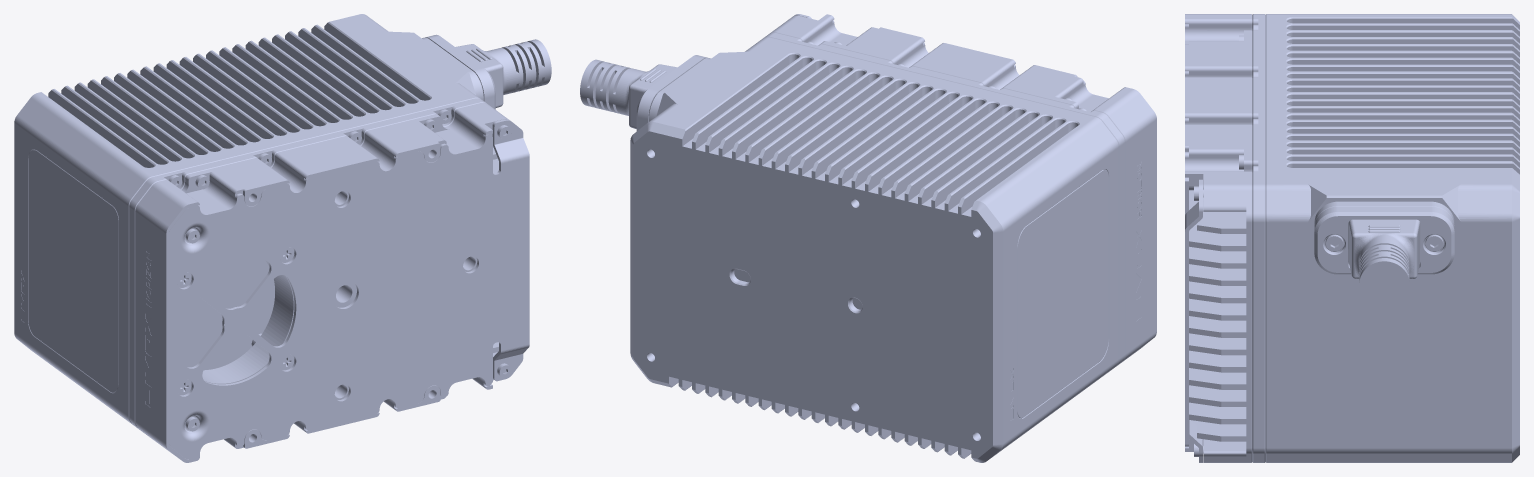
Rendered from horizon.dae.
3 renders of one model, left to right at view 1: azimuth 30°, elevation 25°; view 2: azimuth 150°, elevation 25°; view 3: azimuth 270°, elevation 25°, orthographic. The views are drawn at different scales.
Visible parts, largest first — view 1: node_f17b4b2d_35dd_4e9b_93a7_5030c35a9ab1_mesh0, node_f17b4b2d_35dd_4e9b_93a7_5030c35a9ab1_mesh3, node_f17b4b2d_35dd_4e9b_93a7_5030c35a9ab1_mesh2, node_f17b4b2d_35dd_4e9b_93a7_5030c35a9ab1_mesh1, node_f17b4b2d_35dd_4e9b_93a7_5030c35a9ab1_mesh4; view 2: node_f17b4b2d_35dd_4e9b_93a7_5030c35a9ab1_mesh0, node_f17b4b2d_35dd_4e9b_93a7_5030c35a9ab1_mesh3, node_f17b4b2d_35dd_4e9b_93a7_5030c35a9ab1_mesh2, node_f17b4b2d_35dd_4e9b_93a7_5030c35a9ab1_mesh4, node_f17b4b2d_35dd_4e9b_93a7_5030c35a9ab1_mesh1; view 3: node_f17b4b2d_35dd_4e9b_93a7_5030c35a9ab1_mesh1, node_f17b4b2d_35dd_4e9b_93a7_5030c35a9ab1_mesh3, node_f17b4b2d_35dd_4e9b_93a7_5030c35a9ab1_mesh2, node_f17b4b2d_35dd_4e9b_93a7_5030c35a9ab1_mesh0, node_f17b4b2d_35dd_4e9b_93a7_5030c35a9ab1_mesh4.
Part boxes in pixels (<box>): node_f17b4b2d_35dd_4e9b_93a7_5030c35a9ab1_mesh0: <box>14,14,538,459</box>; node_f17b4b2d_35dd_4e9b_93a7_5030c35a9ab1_mesh3: <box>14,14,544,462</box>; node_f17b4b2d_35dd_4e9b_93a7_5030c35a9ab1_mesh2: <box>17,25,544,445</box>; node_f17b4b2d_35dd_4e9b_93a7_5030c35a9ab1_mesh1: <box>21,22,551,458</box>; node_f17b4b2d_35dd_4e9b_93a7_5030c35a9ab1_mesh4: <box>21,28,523,447</box>; node_f17b4b2d_35dd_4e9b_93a7_5030c35a9ab1_mesh0: <box>606,15,1156,458</box>; node_f17b4b2d_35dd_4e9b_93a7_5030c35a9ab1_mesh3: <box>580,14,1153,452</box>; node_f17b4b2d_35dd_4e9b_93a7_5030c35a9ab1_mesh2: <box>600,23,1141,458</box>; node_f17b4b2d_35dd_4e9b_93a7_5030c35a9ab1_mesh4: <box>593,14,1156,462</box>; node_f17b4b2d_35dd_4e9b_93a7_5030c35a9ab1_mesh1: <box>587,32,1150,462</box>; node_f17b4b2d_35dd_4e9b_93a7_5030c35a9ab1_mesh1: <box>1185,14,1519,462</box>; node_f17b4b2d_35dd_4e9b_93a7_5030c35a9ab1_mesh3: <box>1185,14,1519,462</box>; node_f17b4b2d_35dd_4e9b_93a7_5030c35a9ab1_mesh2: <box>1185,14,1519,462</box>; node_f17b4b2d_35dd_4e9b_93a7_5030c35a9ab1_mesh0: <box>1185,14,1519,462</box>; node_f17b4b2d_35dd_4e9b_93a7_5030c35a9ab1_mesh4: <box>1185,15,1519,462</box>.
Size of the model in its own units: 145 by 84.1 by 77.
